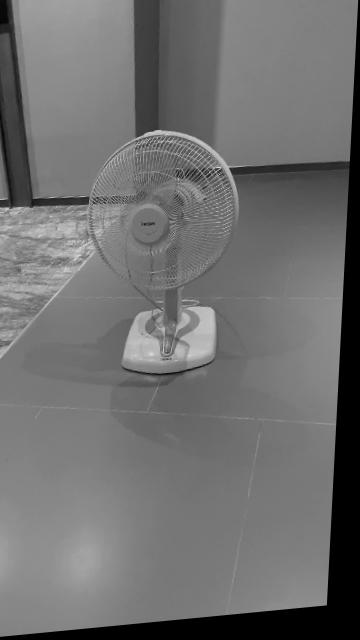Fan: (90, 133, 241, 379)
